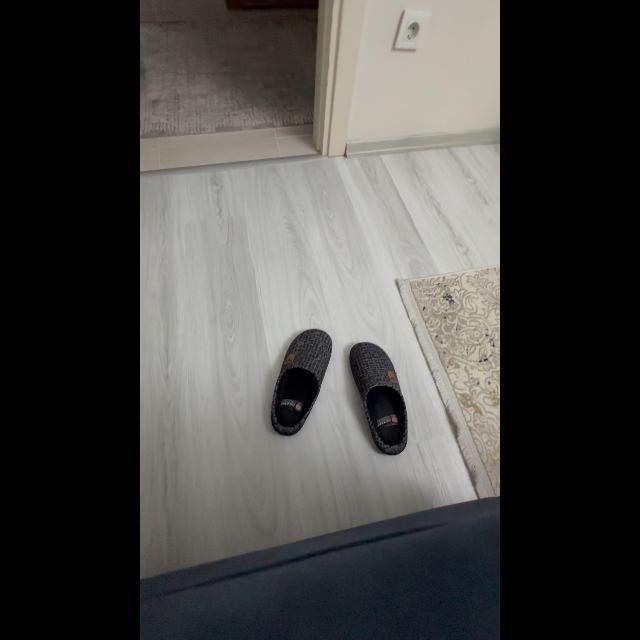slipper: (344, 334, 420, 460), (268, 318, 336, 439)
